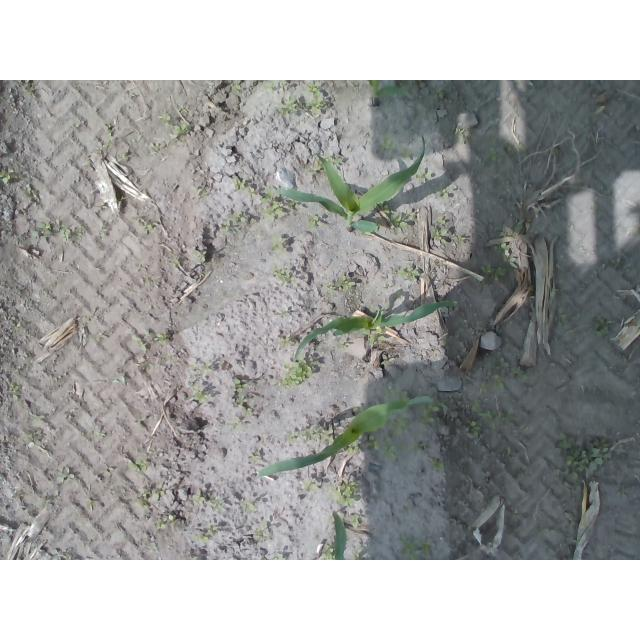Maize: (253, 393, 436, 478), (273, 136, 427, 237), (291, 295, 456, 361), (363, 80, 412, 105), (332, 506, 349, 560)
Weeds: (556, 428, 613, 488), (476, 402, 521, 426), (380, 203, 416, 231), (282, 358, 314, 387), (288, 426, 334, 444), (156, 113, 192, 135), (496, 357, 529, 380), (419, 401, 450, 425), (493, 242, 517, 270), (368, 439, 400, 460), (303, 83, 325, 113), (136, 487, 165, 509), (259, 194, 283, 220), (390, 414, 415, 438), (324, 275, 357, 293), (134, 334, 170, 350), (24, 416, 42, 448), (337, 482, 359, 507), (224, 209, 249, 231), (478, 263, 507, 281), (401, 534, 420, 560), (428, 218, 448, 240), (592, 316, 610, 338), (430, 456, 452, 474), (154, 515, 180, 530), (479, 374, 503, 390), (609, 256, 632, 272), (193, 526, 216, 542), (552, 308, 569, 329), (367, 330, 387, 347), (32, 222, 52, 238), (282, 97, 299, 115), (271, 268, 292, 281), (410, 441, 427, 457), (327, 156, 345, 171), (265, 80, 287, 92), (398, 266, 419, 278), (468, 419, 482, 437), (59, 224, 72, 243), (304, 215, 320, 230), (483, 147, 498, 162), (192, 390, 209, 403), (56, 472, 73, 485), (434, 189, 451, 202), (422, 540, 433, 560), (232, 376, 244, 394), (382, 354, 398, 367), (128, 458, 145, 470), (103, 129, 112, 151), (112, 374, 127, 386), (304, 479, 316, 494), (0, 171, 12, 186), (230, 82, 242, 96), (451, 235, 465, 247), (347, 442, 361, 454), (432, 88, 444, 101), (270, 552, 286, 561), (192, 495, 204, 507), (234, 179, 247, 190), (100, 222, 108, 239), (141, 222, 153, 233), (192, 185, 205, 195), (350, 515, 360, 527), (269, 238, 279, 250), (8, 383, 19, 393), (382, 136, 391, 148), (150, 141, 160, 151)
